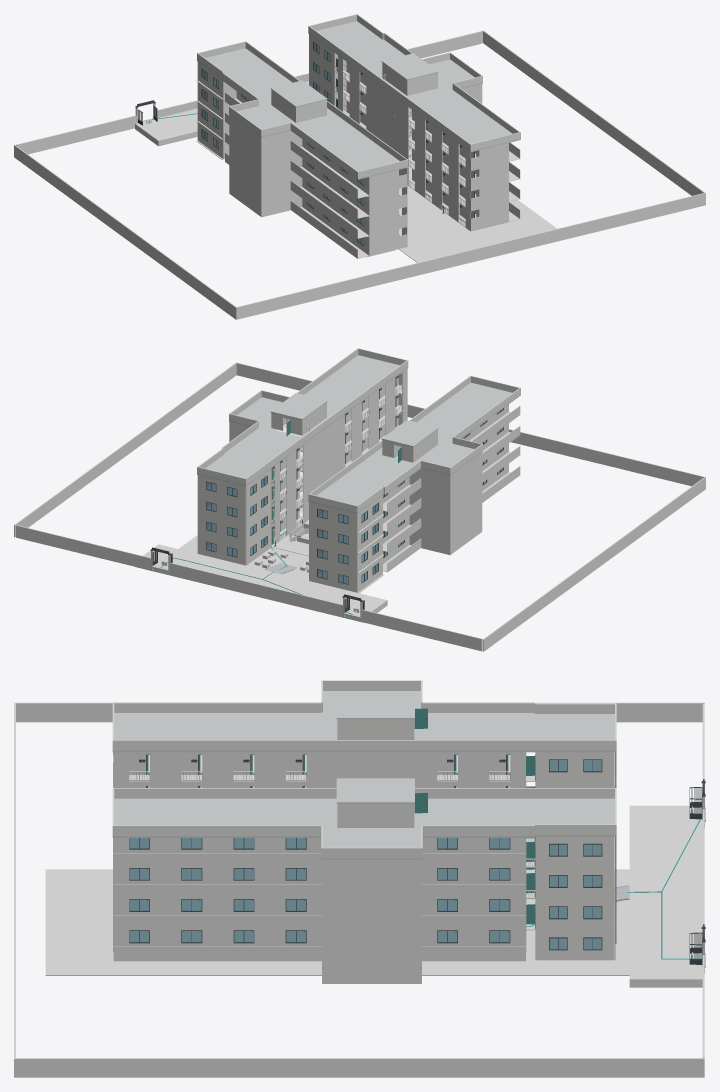
The model's file is Campus_Model_With_Main_Gates.glb.
3 views of the same model, one above another, from view 1: azimuth 30°, elevation 25°; view 2: azimuth 150°, elevation 25°; view 3: azimuth 270°, elevation 25° (orthographic). The views are drawn at different scales.
Visible parts, largest first — view 1: Boundary_Front, ENV_measured_single_floor_base_v4.002, Boundary_Left, MEASURED_gallery_outer_boundary_wall_duplicate_opposite_side (×4), Boundary_Right, MEASURED_interzone_bottom_class3_top_extended_5m_duplicate_o (×4), MEASURED_washroom_full_length_right_boundary_moved_outward_d (×4), MEASURED_Classroom_6_bottom_wall_5m_length_duplicate_opposit (×4), Boundary_Back_Segment_1, Office_Top_Wall_Gap_Cuboid, ROOF_Original_Gallery_And_Stairhead_Surround, ROOF_BOUNDARY_Original_W_02 (+29 smaller); view 2: Office_Top_Wall_Gap_Cuboid, Boundary_Front, Boundary_Left, MEASURED_gallery_outer_boundary_wall_duplicate_opposite_side (×4), Boundary_Right, MEASURED_washroom_full_length_right_boundary_moved_outward_d (×4), Boundary_Back_Segment_2, MEASURED_interzone_top_after_class2_extended_5m_duplicate_op (×3), Boundary_Back_Segment_3, Boundary_Back_Segment_1, ROOF_Original_Gallery_And_Stairhead_Surround, ENV_measured_single_floor_base_v4.002 (+26 smaller); view 3: ENV_measured_single_floor_base_v4.002, Boundary_Right, Office_Top_Wall_Gap_Cuboid, MEASURED_washroom_full_length_right_boundary_moved_outward_f (×3), ROOF_BOUNDARY_Duplicate_E_01, MEASURED_gallery_outer_boundary_wall, MEASURED_gallery_outer_boundary_wall_floor2, MEASURED_gallery_outer_boundary_wall_floor3, MEASURED_gallery_outer_boundary_wall_floor4, ROOF_BOUNDARY_Original_W_02, ROOF_Duplicate_Gallery_And_Stairhead_Surround, Boundary_Left (+47 smaller).
Part boxes in pixels (<box>): Boundary_Front: <box>235,193,705,319</box>; ENV_measured_single_floor_base_v4.002: <box>399,150,556,262</box>; Boundary_Left: <box>14,145,236,319</box>; MEASURED_gallery_outer_boundary_wall_duplicate_opposite_side (×4): <box>225,92,357,258</box>; Boundary_Right: <box>482,30,705,195</box>; MEASURED_interzone_bottom_class3_top_extended_5m_duplicate_o (×4): <box>261,130,302,216</box>; MEASURED_washroom_full_length_right_boundary_moved_outward_d (×4): <box>229,114,261,216</box>; MEASURED_Classroom_6_bottom_wall_5m_length_duplicate_opposit (×4): <box>369,170,398,255</box>; Boundary_Back_Segment_1: <box>16,115,136,154</box>; Office_Top_Wall_Gap_Cuboid: <box>135,81,308,146</box>; ROOF_Original_Gallery_And_Stairhead_Surround: <box>334,39,520,151</box>; ROOF_BOUNDARY_Original_W_02: <box>308,26,470,150</box>; Office_Top_Wall_Gap_Cuboid: <box>136,544,387,621</box>; Boundary_Front: <box>236,362,705,489</box>; Boundary_Left: <box>482,477,705,651</box>; MEASURED_gallery_outer_boundary_wall_duplicate_opposite_side (×4): <box>387,406,520,571</box>; Boundary_Right: <box>14,362,236,537</box>; MEASURED_washroom_full_length_right_boundary_moved_outward_d (×4): <box>450,452,482,554</box>; Boundary_Back_Segment_2: <box>170,562,342,617</box>; MEASURED_interzone_top_after_class2_extended_5m_duplicate_op (×3): <box>402,468,450,534</box>; Boundary_Back_Segment_3: <box>16,525,150,570</box>; Boundary_Back_Segment_1: <box>362,609,482,651</box>; ROOF_Original_Gallery_And_Stairhead_Surround: <box>224,355,408,466</box>; ENV_measured_single_floor_base_v4.002: <box>178,491,324,580</box>; ENV_measured_single_floor_base_v4.002: <box>45,869,629,975</box>; Boundary_Right: <box>14,1058,704,1077</box>; Office_Top_Wall_Gap_Cuboid: <box>629,805,702,987</box>; MEASURED_washroom_full_length_right_boundary_moved_outward_f (×3): <box>322,860,421,952</box>; ROOF_BOUNDARY_Duplicate_E_01: <box>112,740,616,750</box>; MEASURED_gallery_outer_boundary_wall: <box>113,946,525,961</box>; MEASURED_gallery_outer_boundary_wall_floor2: <box>113,915,525,929</box>; MEASURED_gallery_outer_boundary_wall_floor3: <box>113,884,525,898</box>; MEASURED_gallery_outer_boundary_wall_floor4: <box>113,853,525,867</box>; ROOF_BOUNDARY_Original_W_02: <box>114,788,614,798</box>; ROOF_Duplicate_Gallery_And_Stairhead_Surround: <box>112,713,534,752</box>; Boundary_Left: <box>16,702,704,722</box>.
Bounding box in the file's own units: 80.74 × 16.15 × 66.27.
28 materials, 5 textured.
